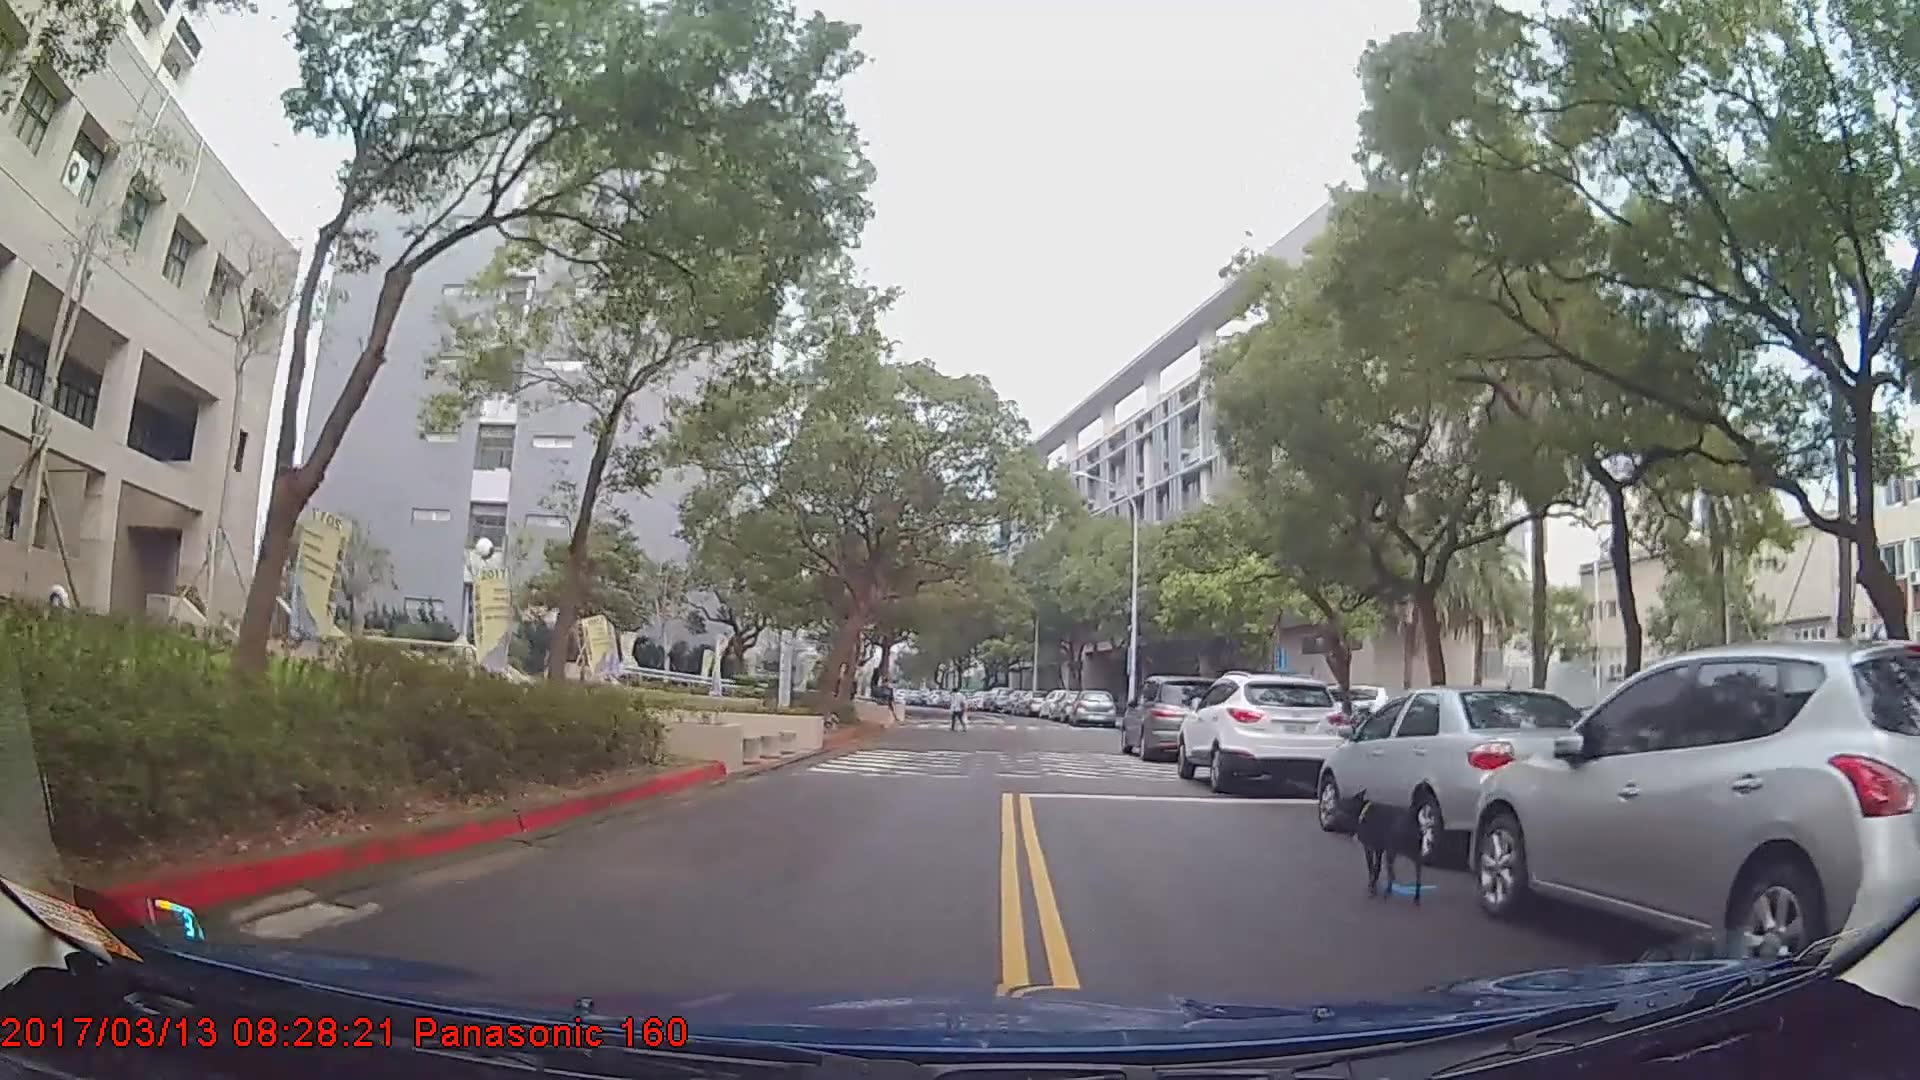pedestrian: (946, 687, 971, 734)
vehicle: (1469, 636, 1920, 998), (1321, 684, 1619, 864), (1175, 669, 1346, 793), (1117, 672, 1235, 757), (1068, 685, 1116, 727), (982, 686, 1012, 713)
